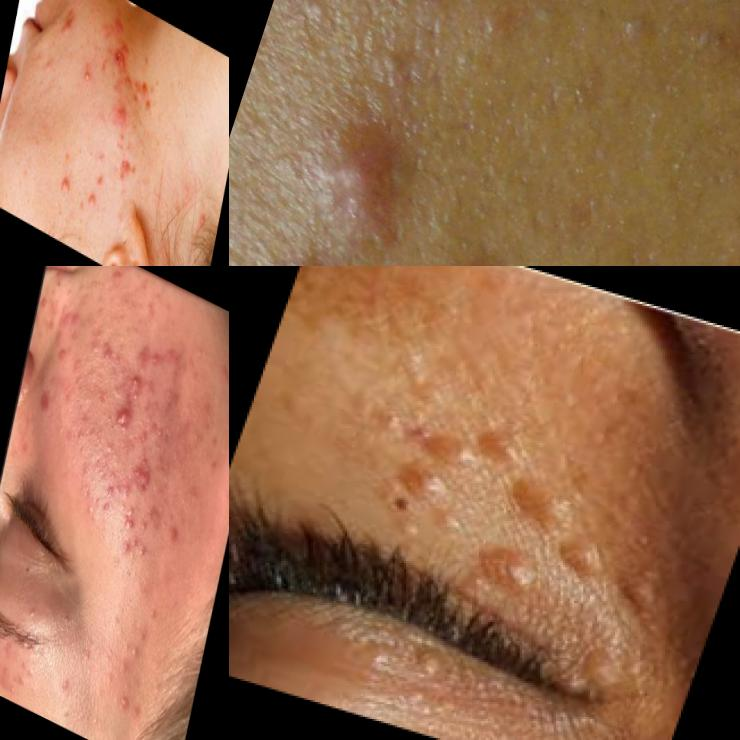acne_scars: (117, 148, 146, 202)
blackhead: (519, 1, 576, 39)
folliculitis: (185, 197, 213, 243)
papular: (282, 105, 432, 264), (130, 342, 158, 384), (36, 386, 58, 419), (96, 337, 118, 370), (112, 101, 131, 135), (59, 300, 77, 332), (167, 522, 186, 548), (142, 504, 161, 530), (61, 12, 77, 42), (70, 309, 87, 333), (153, 422, 170, 446), (37, 290, 52, 314), (56, 345, 71, 368), (110, 267, 125, 288), (149, 350, 164, 371), (138, 429, 151, 449)
purulent: (54, 151, 83, 215), (84, 184, 109, 224), (78, 54, 100, 95), (113, 688, 138, 723), (119, 499, 140, 536), (125, 366, 145, 397), (128, 388, 145, 409), (103, 480, 118, 502), (100, 497, 115, 518), (120, 540, 133, 559), (129, 534, 141, 552), (138, 543, 149, 560), (140, 518, 151, 535)
sebo-crystan-conglo: (103, 29, 138, 90), (130, 460, 162, 501), (110, 402, 138, 438)
syringoma: (333, 404, 722, 709)
whitehead: (115, 635, 147, 684), (12, 654, 38, 699), (87, 320, 109, 369), (19, 592, 42, 629), (57, 671, 78, 707), (101, 436, 120, 463), (118, 476, 136, 502), (89, 275, 107, 295), (86, 423, 101, 446), (143, 301, 157, 320), (95, 425, 107, 447), (77, 279, 90, 299), (132, 324, 142, 339), (97, 305, 107, 320)
